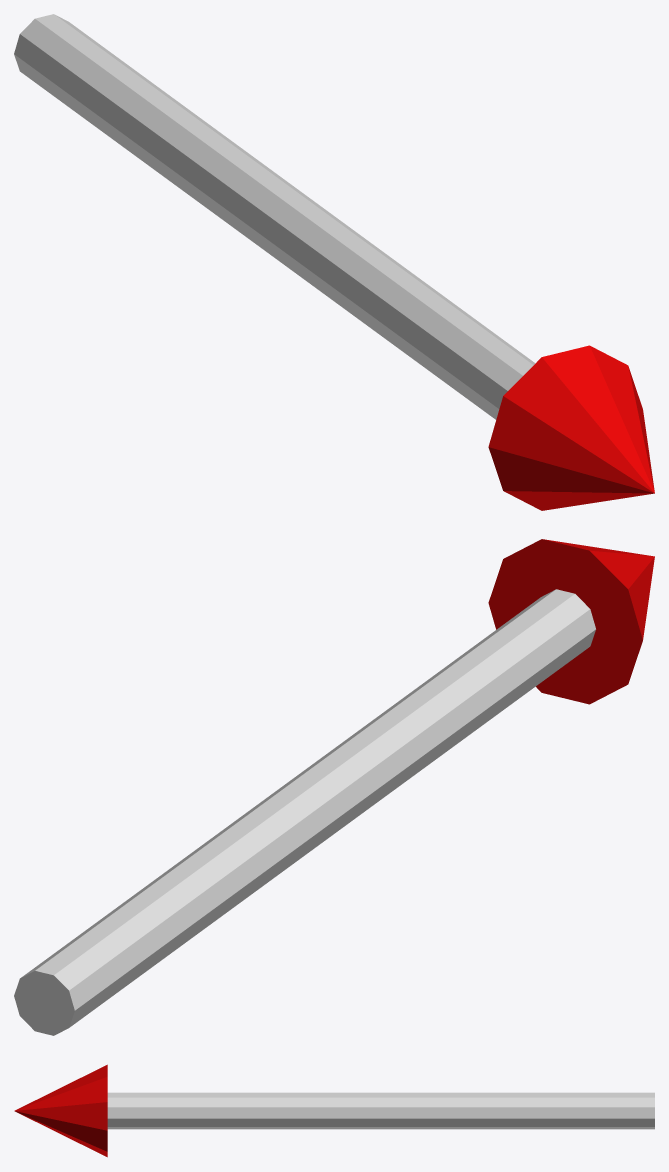
Rendered from arrow.fbx.
3 views of the same model, one above another, from view 1: azimuth 30°, elevation 25°; view 2: azimuth 150°, elevation 25°; view 3: azimuth 270°, elevation 25° (orthographic). The views are drawn at different scales.
Parts seen in each view (by area): view 1: arrow; view 2: arrow; view 3: arrow.
Boxes of the visible parts, x1,y1,x2,y2 form: arrow: [14, 14, 654, 510]; arrow: [14, 539, 654, 1035]; arrow: [14, 1064, 654, 1157].
Bounding box in the file's own units: 5.08 × 4.83 × 34.74.
